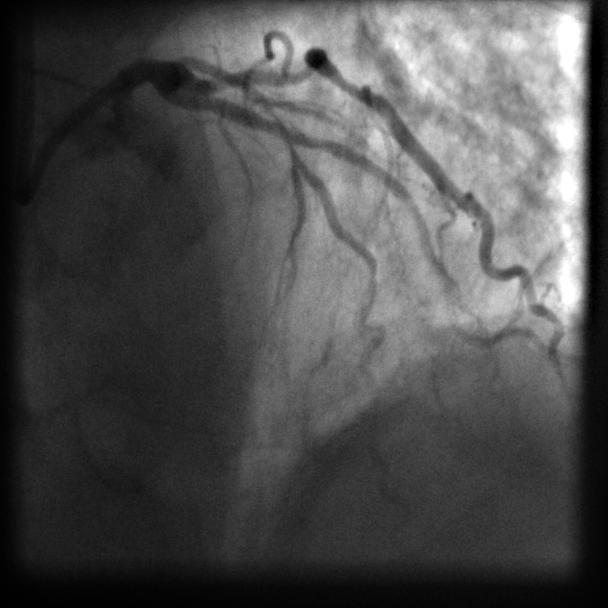Stenosis: (252, 83, 280, 130)
